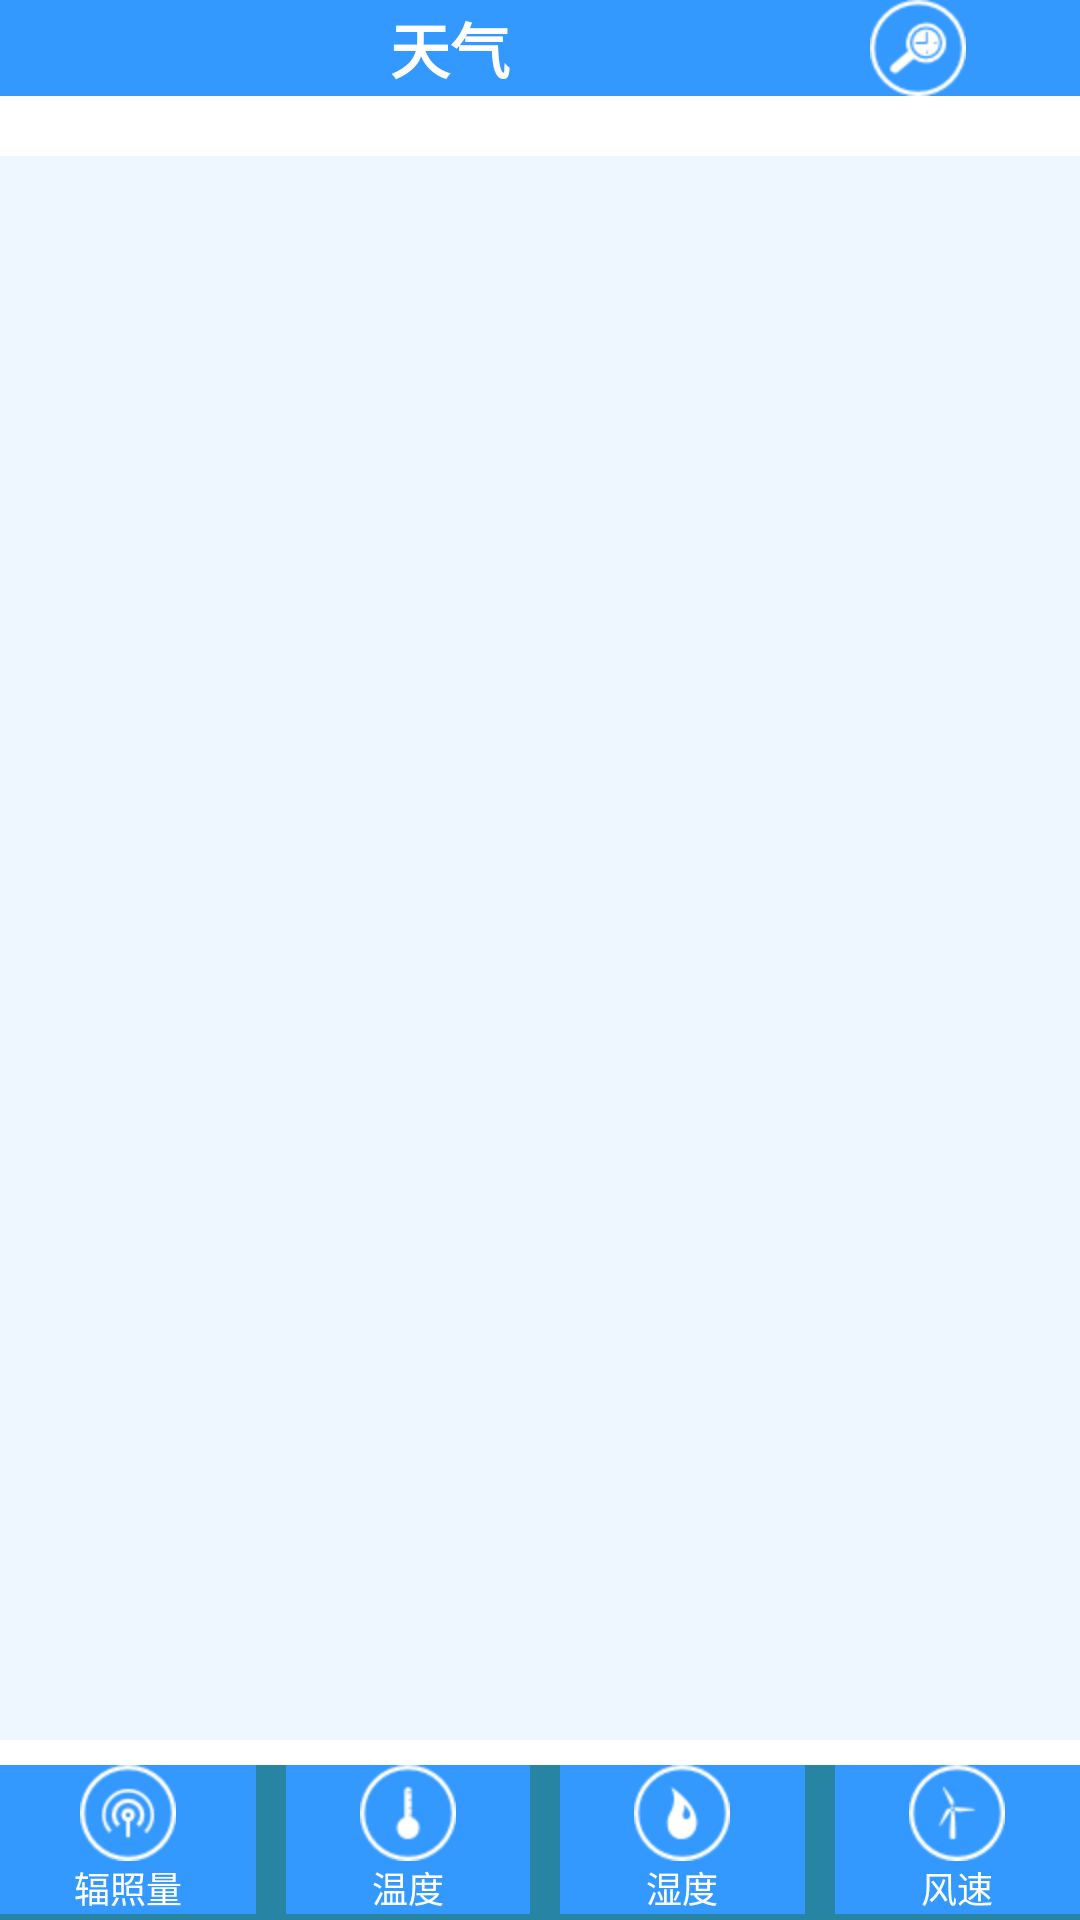

Icons on this 1080x1920 Android screen, each with the point to tap as (x=x, y=y):
search time: (x=918, y=48)
